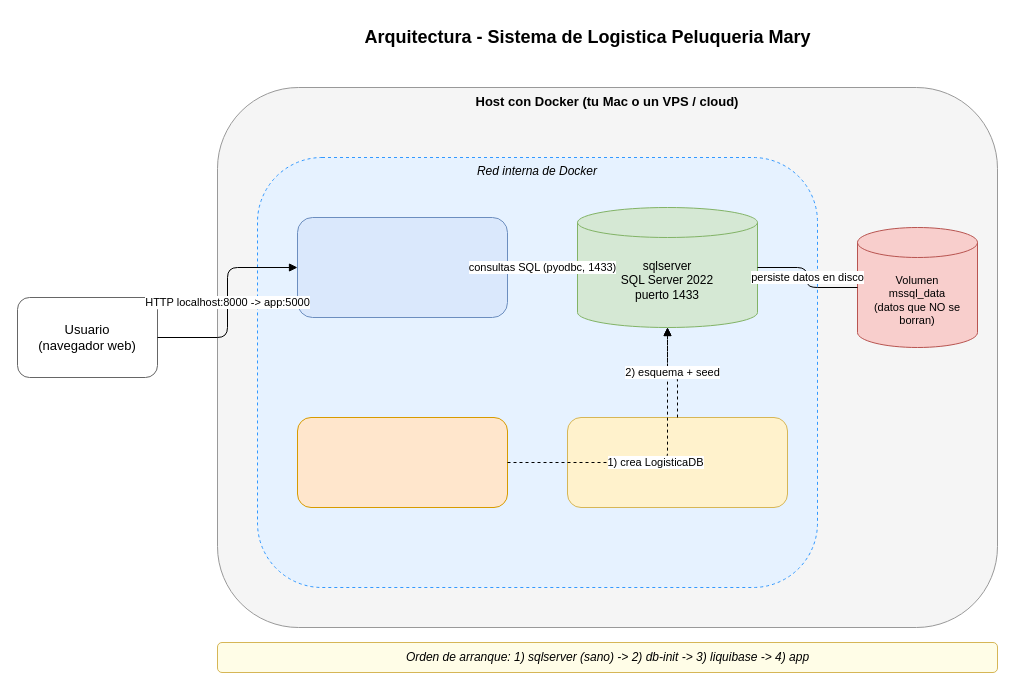
This 1015x690 diagram has some shape labels left out. Here are the shapes that lost their labels. From the top down, the centre of each, then its label:
At point 402,267: "app Flask + driver ODBC 18 escucha el puerto 5000".
At point 402,462: "db-init crea la base LogisticaDB (corre 1 vez y se apaga)".
At point 677,462: "liquibase crea tablas + datos de ejemplo (corre 1 vez y se apaga)".
